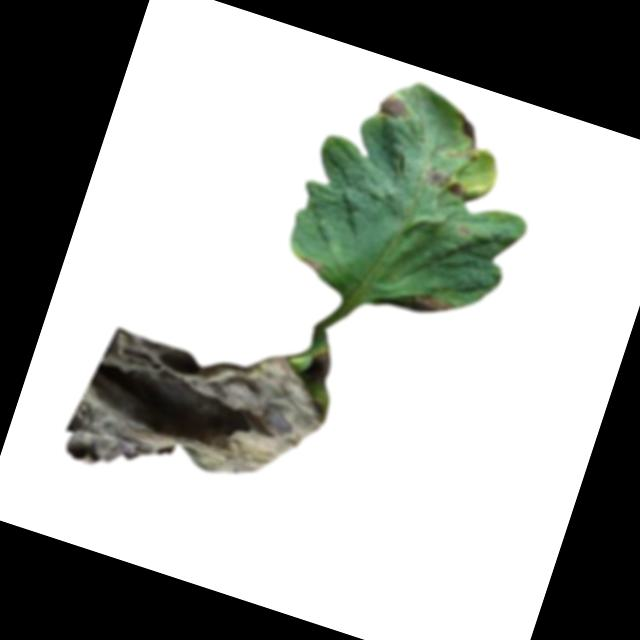Early_blight: (58, 281, 347, 532), (381, 280, 458, 326), (448, 112, 489, 161), (422, 164, 471, 200), (372, 87, 415, 123), (300, 254, 327, 274), (457, 222, 472, 236)
